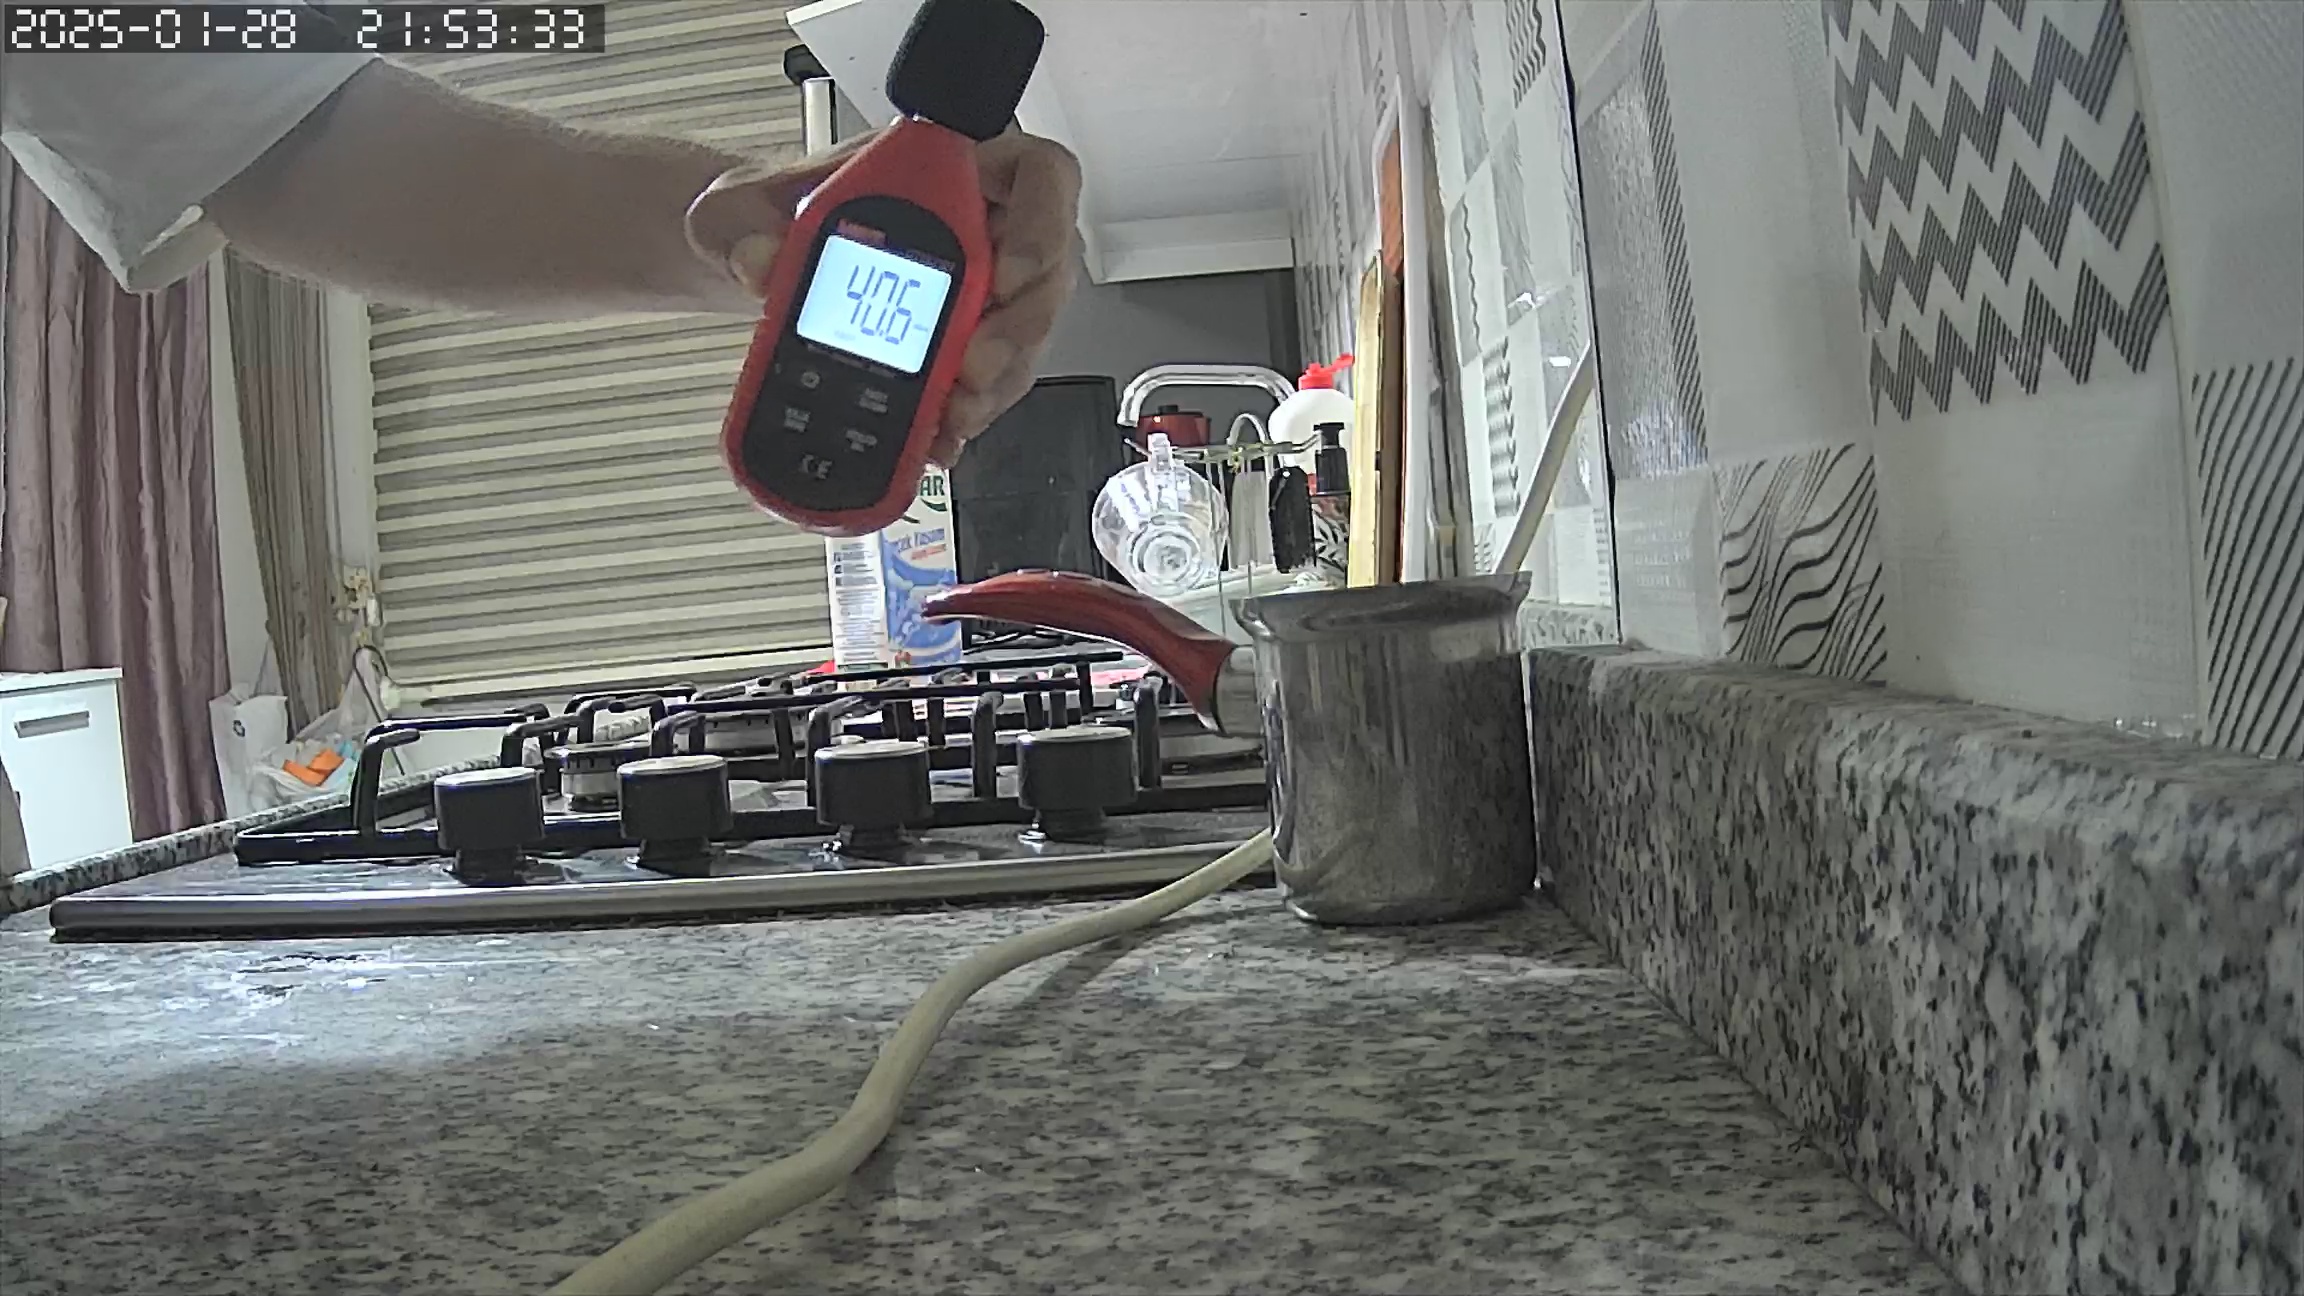screen: (796, 234, 948, 373)
